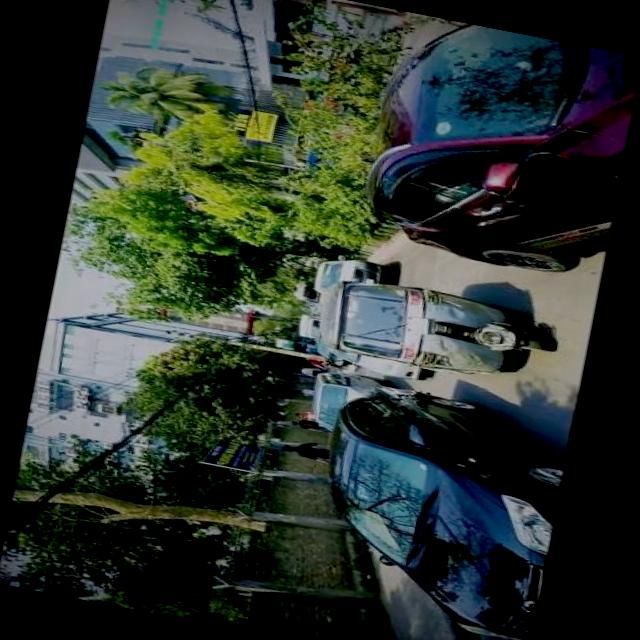car: (347, 7, 640, 283), (297, 374, 575, 640), (305, 363, 383, 436), (310, 250, 378, 301)
motorcycle: (310, 266, 556, 384)
truck: (294, 311, 318, 337)
